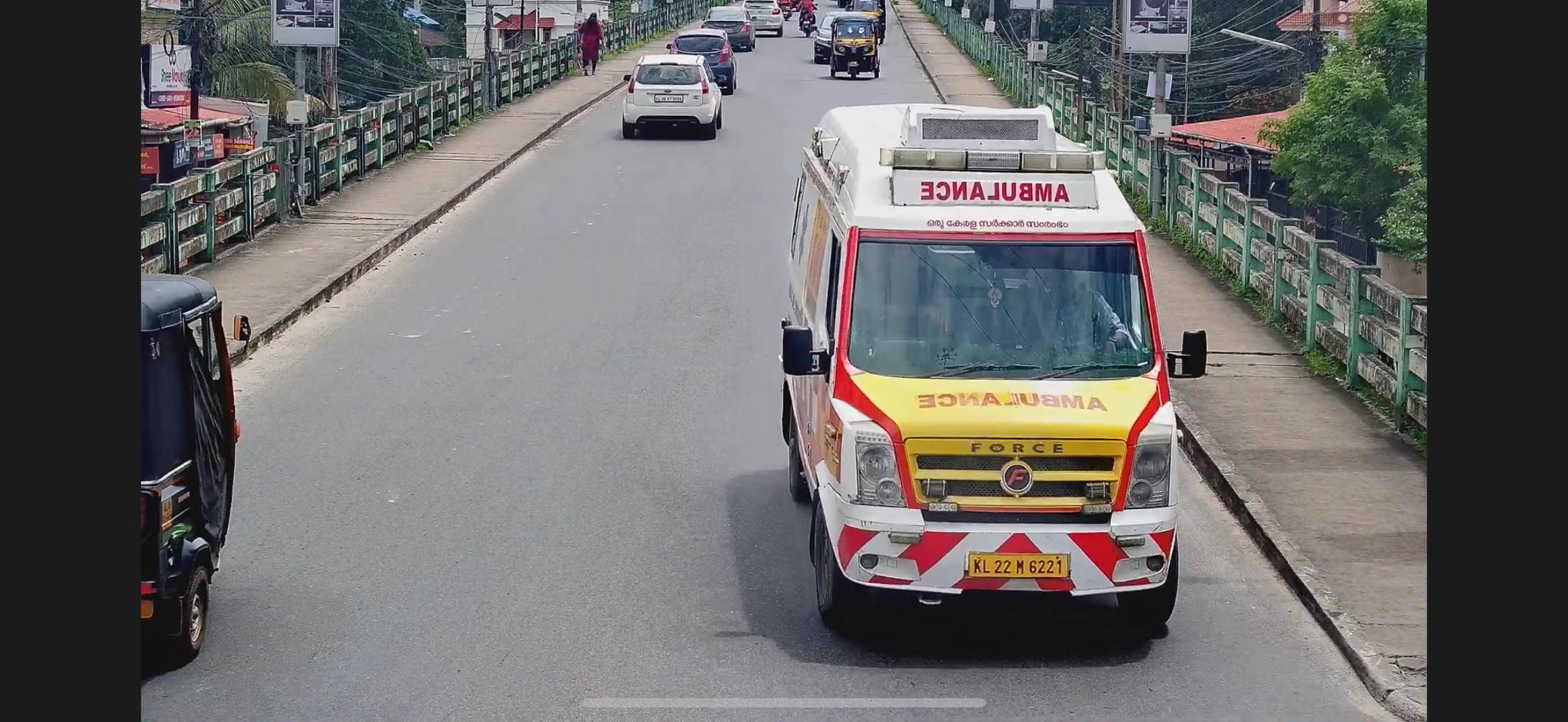ambulance: (784, 85, 1177, 637)
